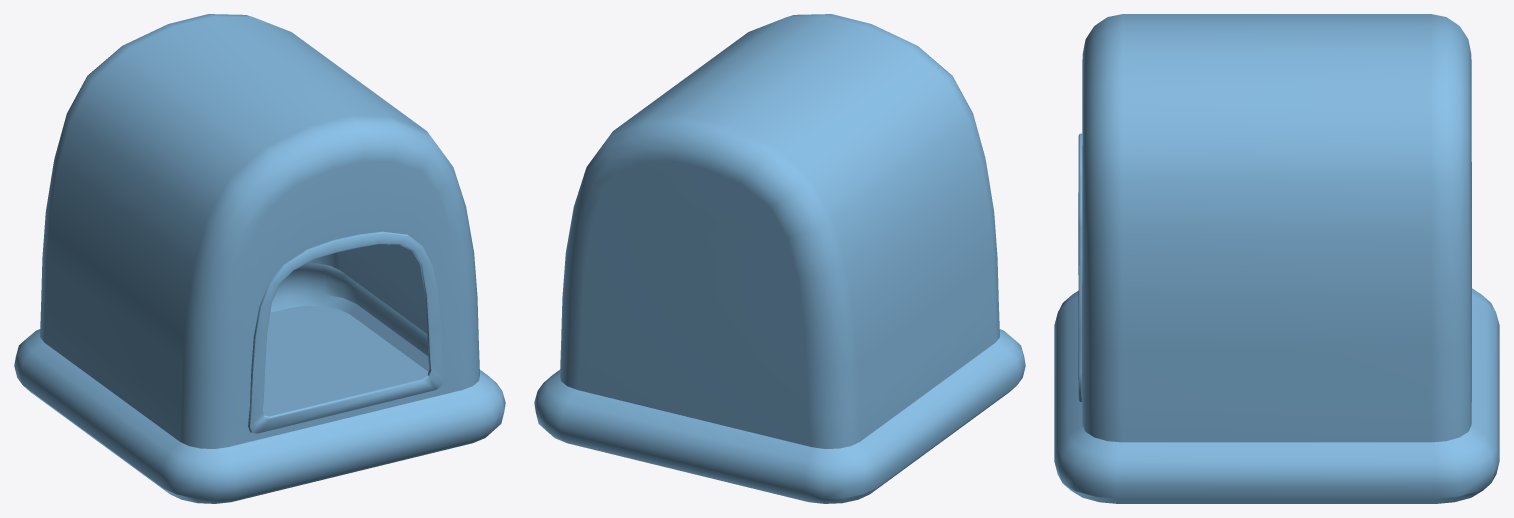
The model's file is noodel_machine.fbx.
The picture shows the model from 3 angles, left to right: view 1: azimuth 30°, elevation 25°; view 2: azimuth 150°, elevation 25°; view 3: azimuth 270°, elevation 25°; orthographic projection. The views are drawn at different scales.
Visible parts, largest first — view 1: pCube14; view 2: pCube14; view 3: pCube14.
Boxes of the visible parts, bbox=[...] form: pCube14: bbox=[14, 14, 505, 503]; pCube14: bbox=[534, 14, 1025, 503]; pCube14: bbox=[1054, 14, 1499, 503].
Bounding box in the file's own units: 3.46 × 3.25 × 3.46.
